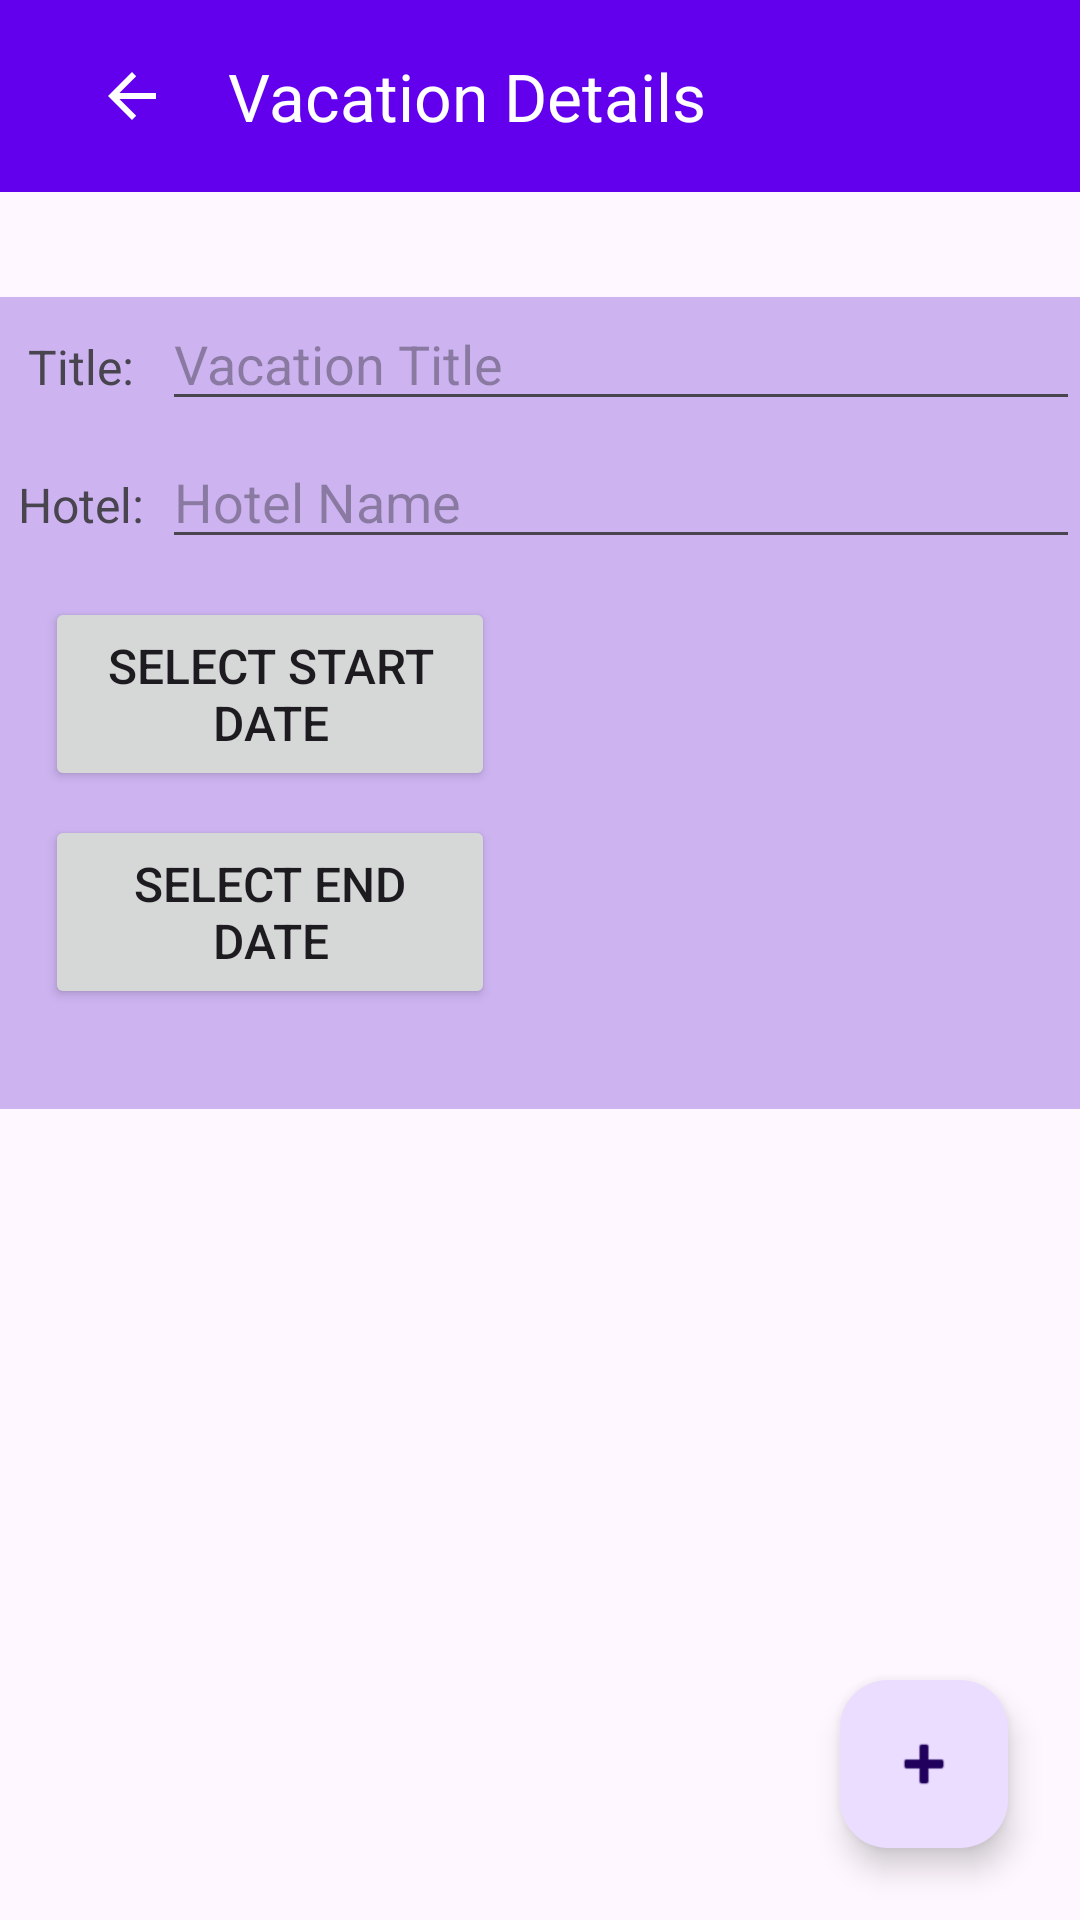

Locate icon controls on the screen. Image size 1080×1920, boxes as (x1, y1, x2, y2).
Add Excursion: (840, 1680, 1008, 1848)
